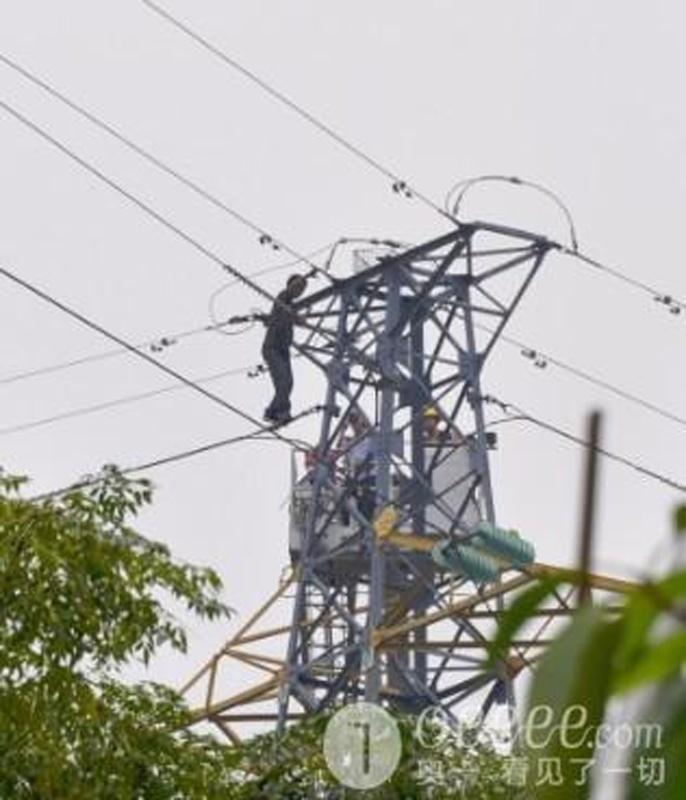power_tower: (255, 240, 570, 762)
